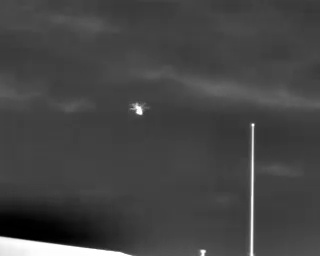HELICOPTER: (125, 95, 156, 121)
